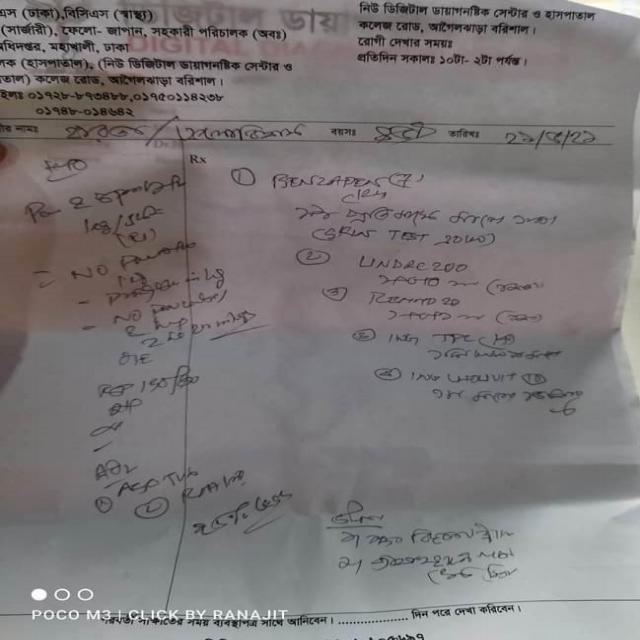Benzapen: (269, 169, 391, 191)
Cholevit: (442, 371, 516, 387)
Lindac: (359, 249, 432, 274)
TPC: (423, 327, 483, 348)
remmo: (350, 287, 442, 314)
